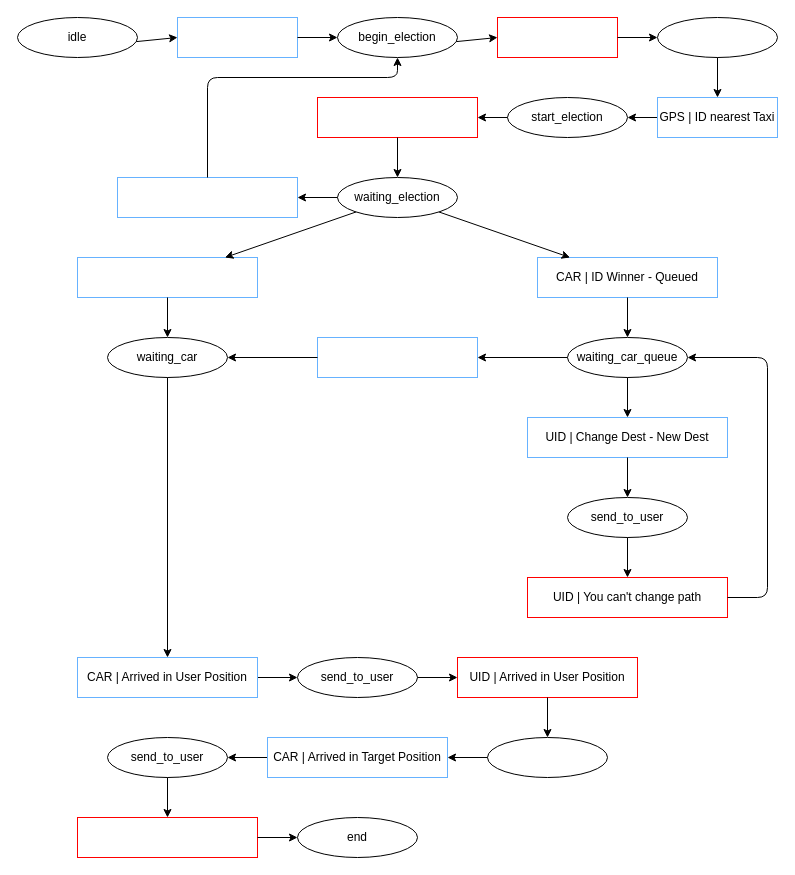
Some shapes in this 795 by 875 pixel diagram are drawn without their labels. The box of each missing label's shape, as (x1, y1, x2, y2) in pixels:
CAR | Begin Election User: (316, 96, 478, 138)
CAR | ID Winner - not queued: (76, 256, 258, 298)
CAR | No taxi Avaiable: (116, 176, 298, 218)
CAR | Taxi serving APP ID: (316, 336, 478, 378)
Get Nearest Taxi: (496, 16, 618, 58)
moving: (486, 736, 608, 778)
UID | Arrived in Target Position: (76, 816, 258, 858)
UID | UID - From - To: (176, 16, 298, 58)
wait_gps: (656, 16, 778, 58)
